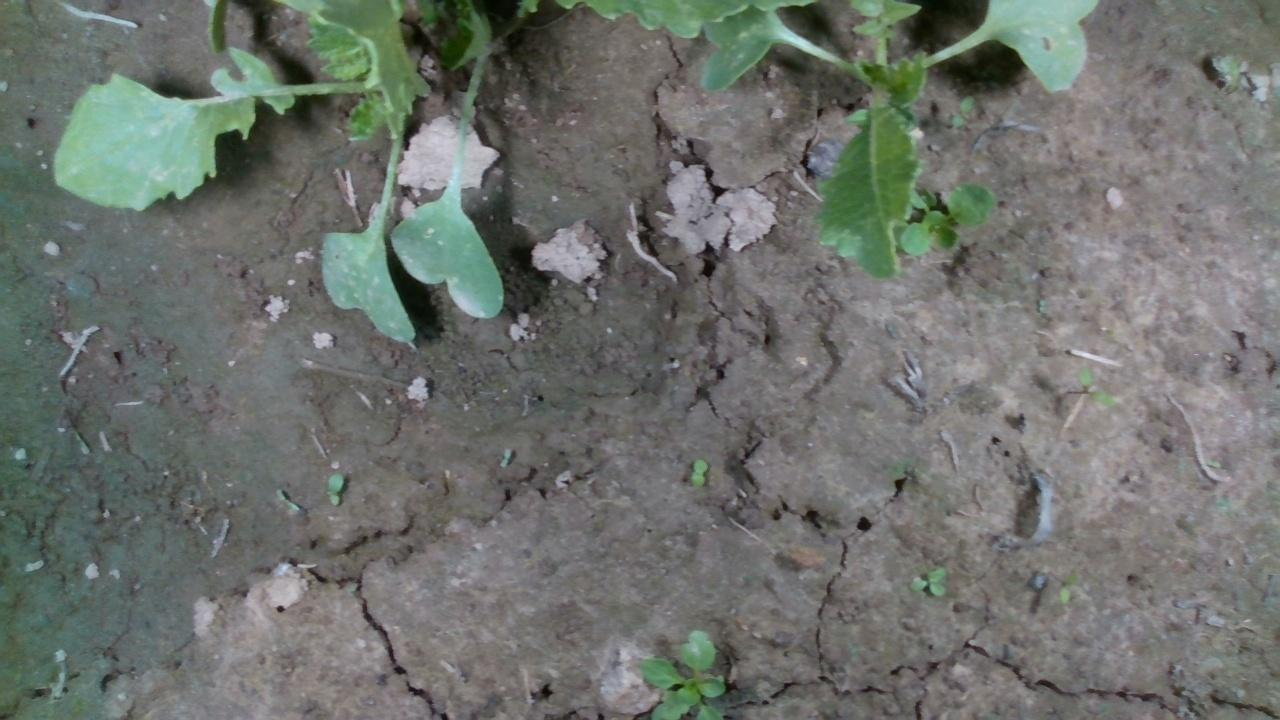weed: (1076, 366, 1114, 407), (902, 564, 944, 597), (945, 93, 974, 131), (322, 471, 343, 507), (1056, 568, 1076, 605), (688, 457, 708, 486)
